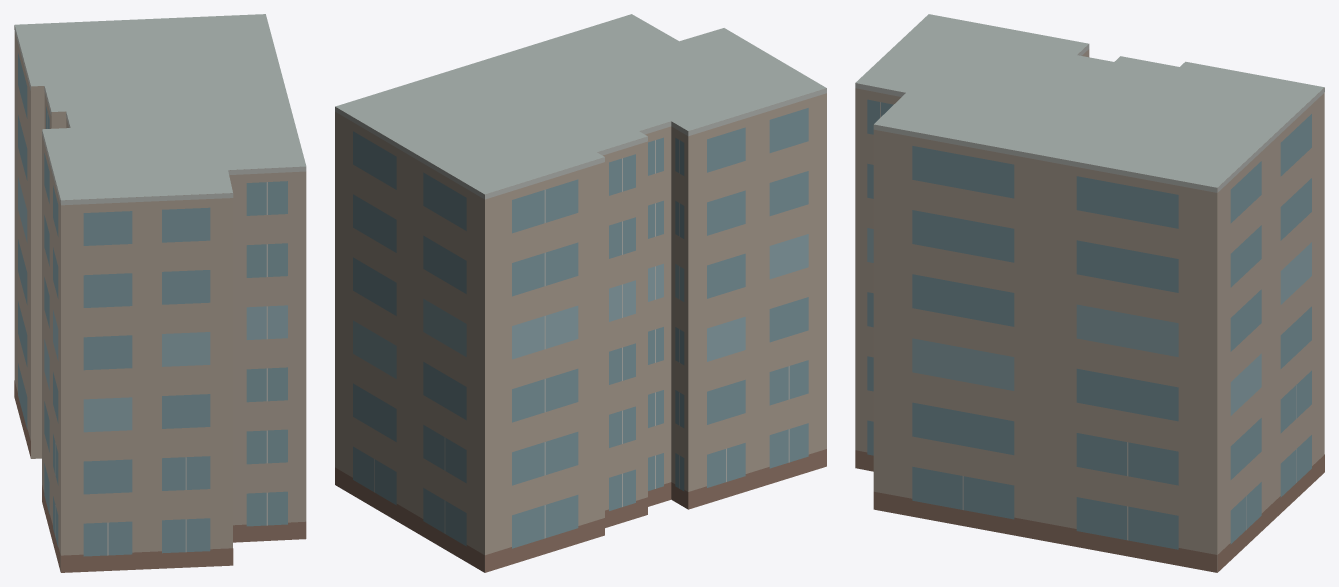
The model's file is survey-upis-32531713.glb.
3 renders of one model, left to right at view 1: azimuth 30°, elevation 25°; view 2: azimuth 150°, elevation 25°; view 3: azimuth 270°, elevation 25°, orthographic. The views are drawn at different scales.
Parts seen in each view (by area): view 1: survey-upis-32531713.tmp; view 2: survey-upis-32531713.tmp; view 3: survey-upis-32531713.tmp.
Part boxes in pixels (left/top/right/bottom): survey-upis-32531713.tmp: left=14, top=14, right=306, bottom=572; survey-upis-32531713.tmp: left=335, top=14, right=826, bottom=572; survey-upis-32531713.tmp: left=855, top=14, right=1324, bottom=572.
Size of the model in its own units: 17.58 by 18.15 by 20.07.
